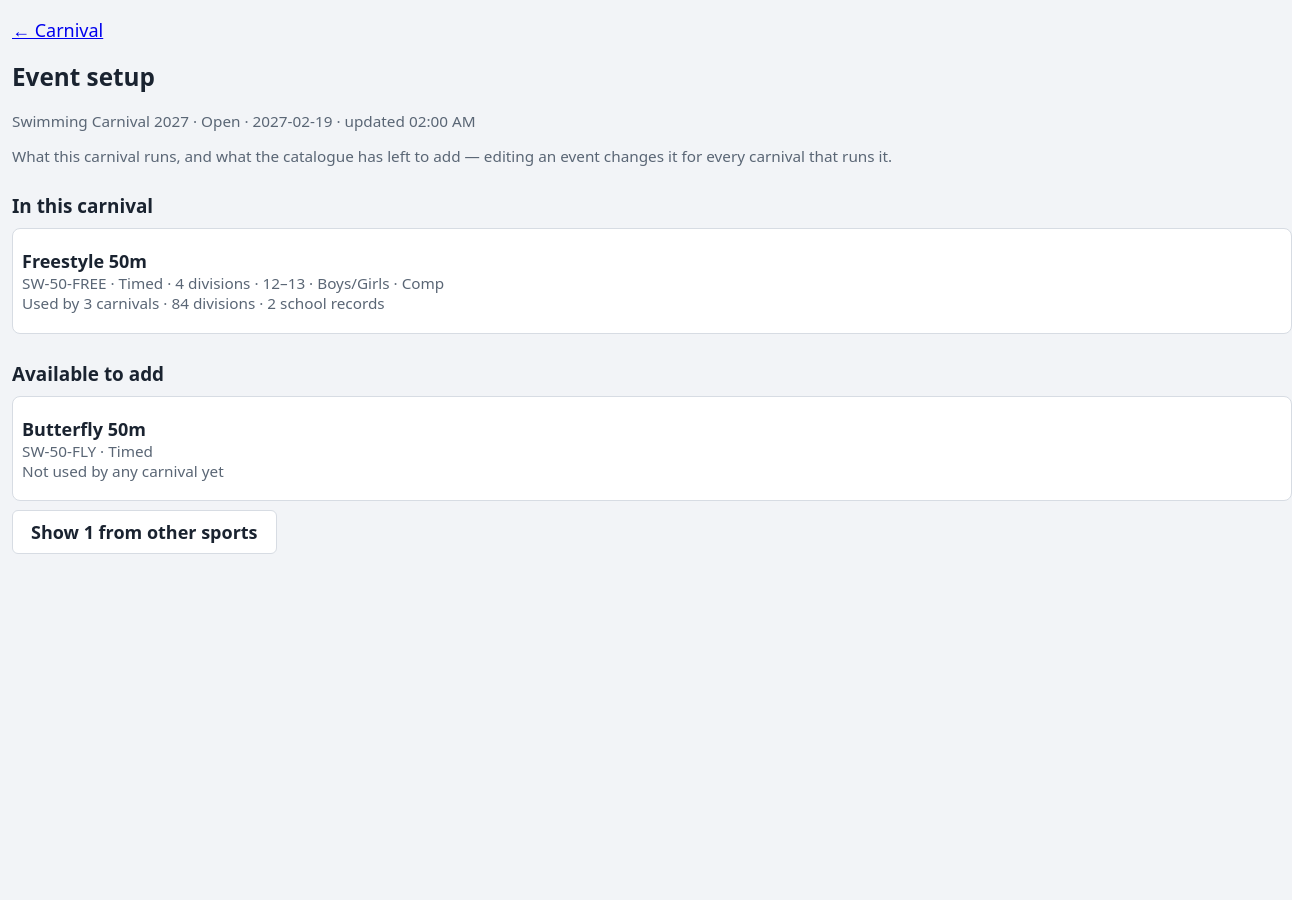
Test case: EventSetupScreen — the sport dimension (ADR-0052 §9) › folds another sport's definitions behind a count, and shows them on request
This screenshot has width=1292, height=900.
Expected: the text "Butterfly 50m" is shown, left=22, top=417, right=146, bottom=441
Expected: the text "Shot Put" is not shown
Click the button "Show 1 from other sports". click: (144,532)
box: left=12, top=510, right=277, bottom=554
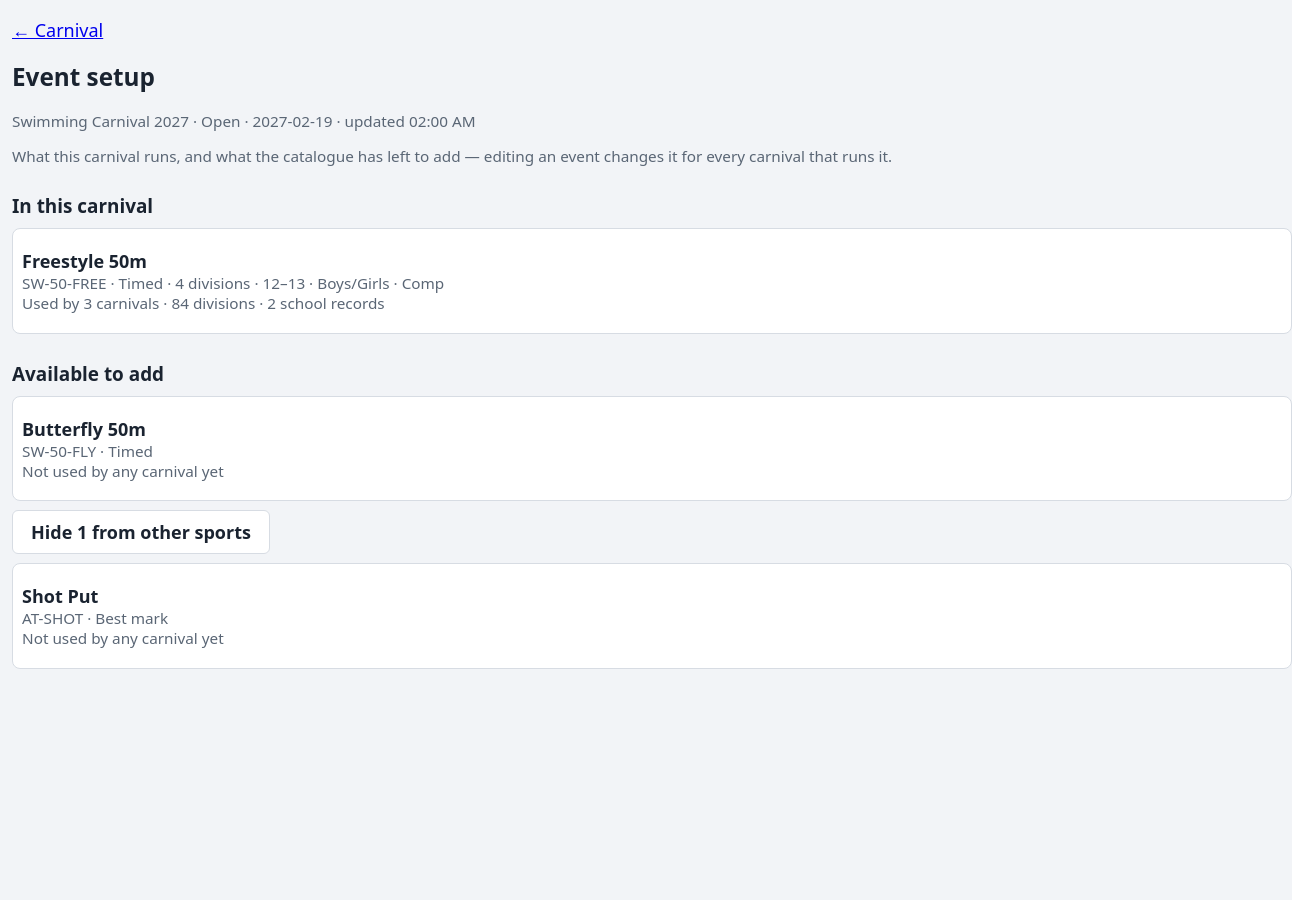
Click the button "Hide 1 from other sports". click: (141,532)
box: left=12, top=510, right=270, bottom=554
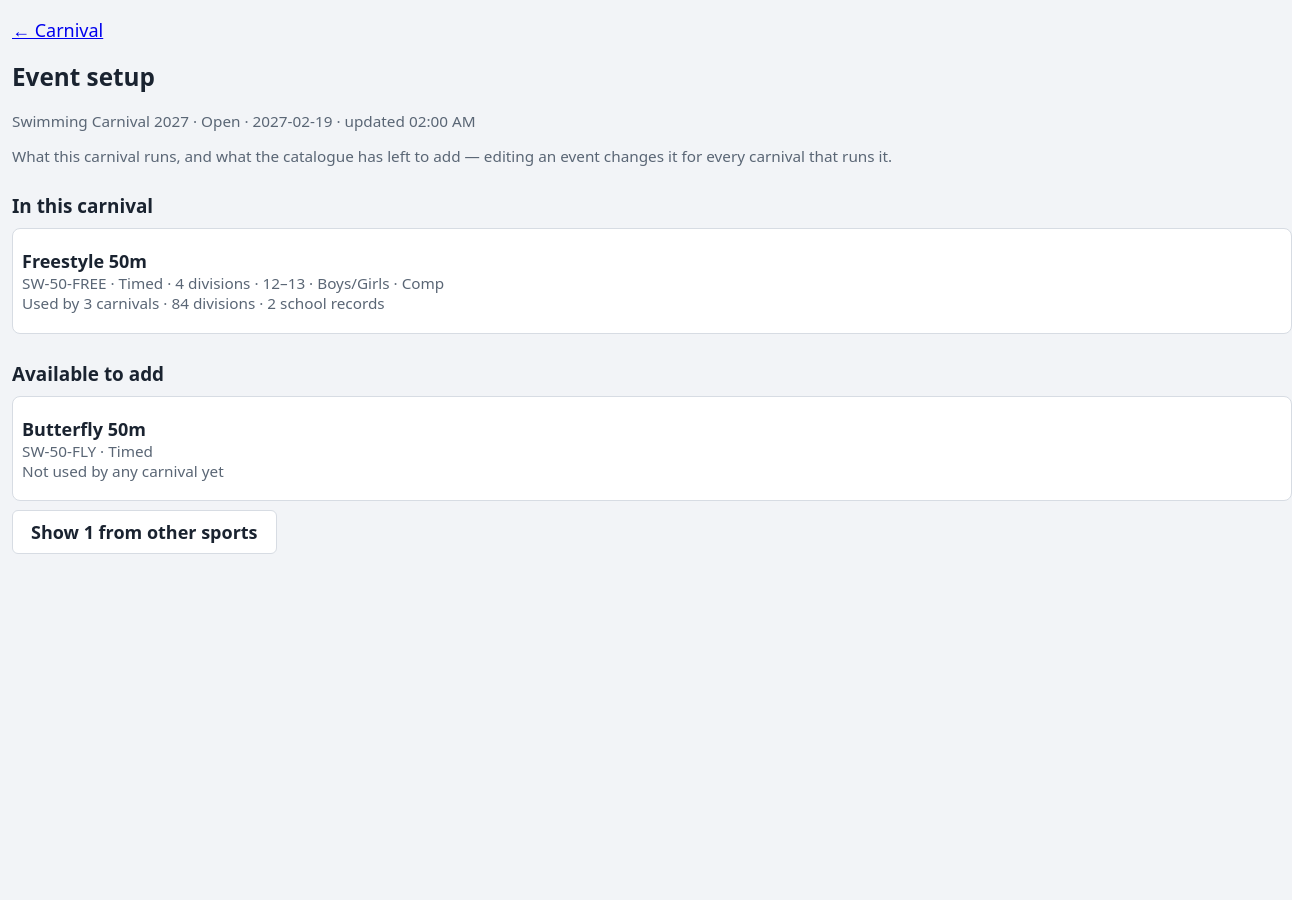
Result: the link "Shot Put" is gone
